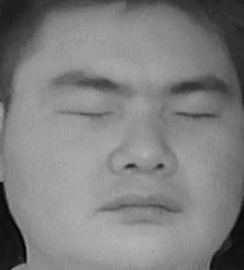blink: (58, 94, 118, 131), (170, 97, 221, 135)
mouth: (96, 183, 189, 230)
